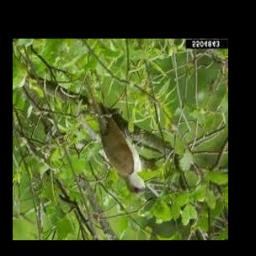Cuckoo: (86, 77, 147, 195)
